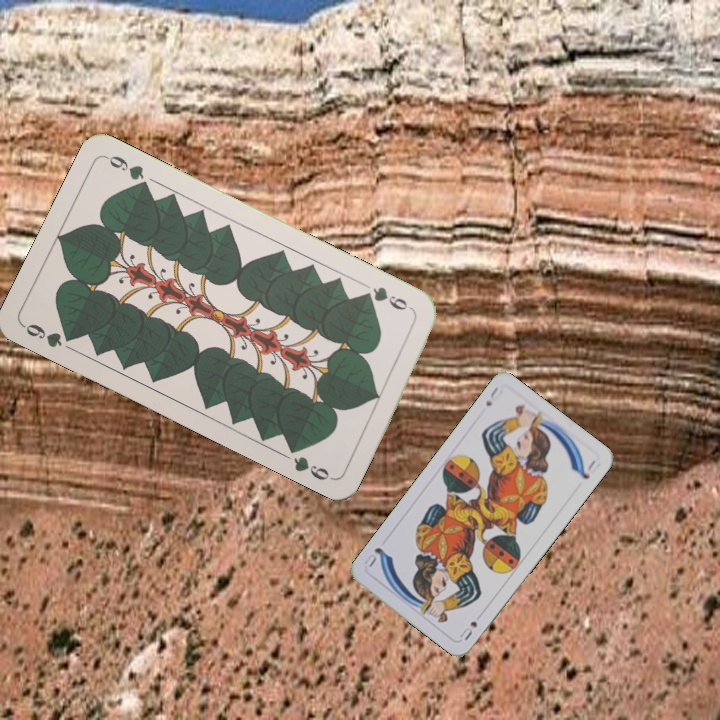G9: (359, 282, 417, 315), (19, 319, 79, 350)
SU: (456, 608, 486, 643), (482, 382, 506, 409)
